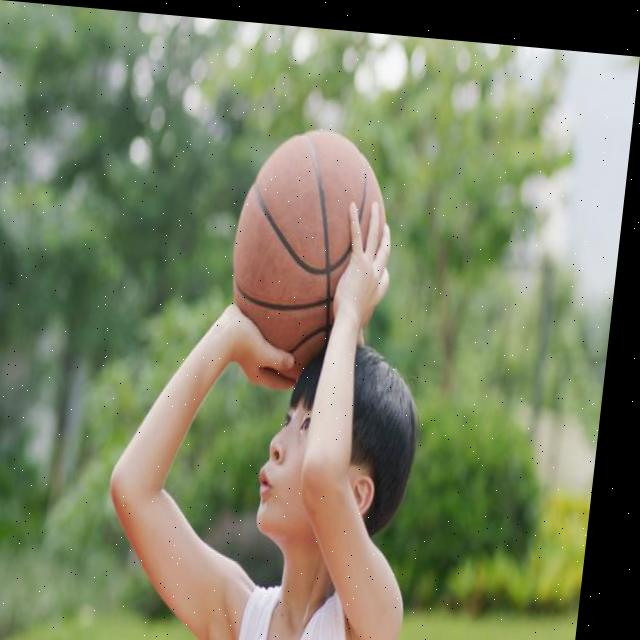basketball: (221, 123, 395, 384)
